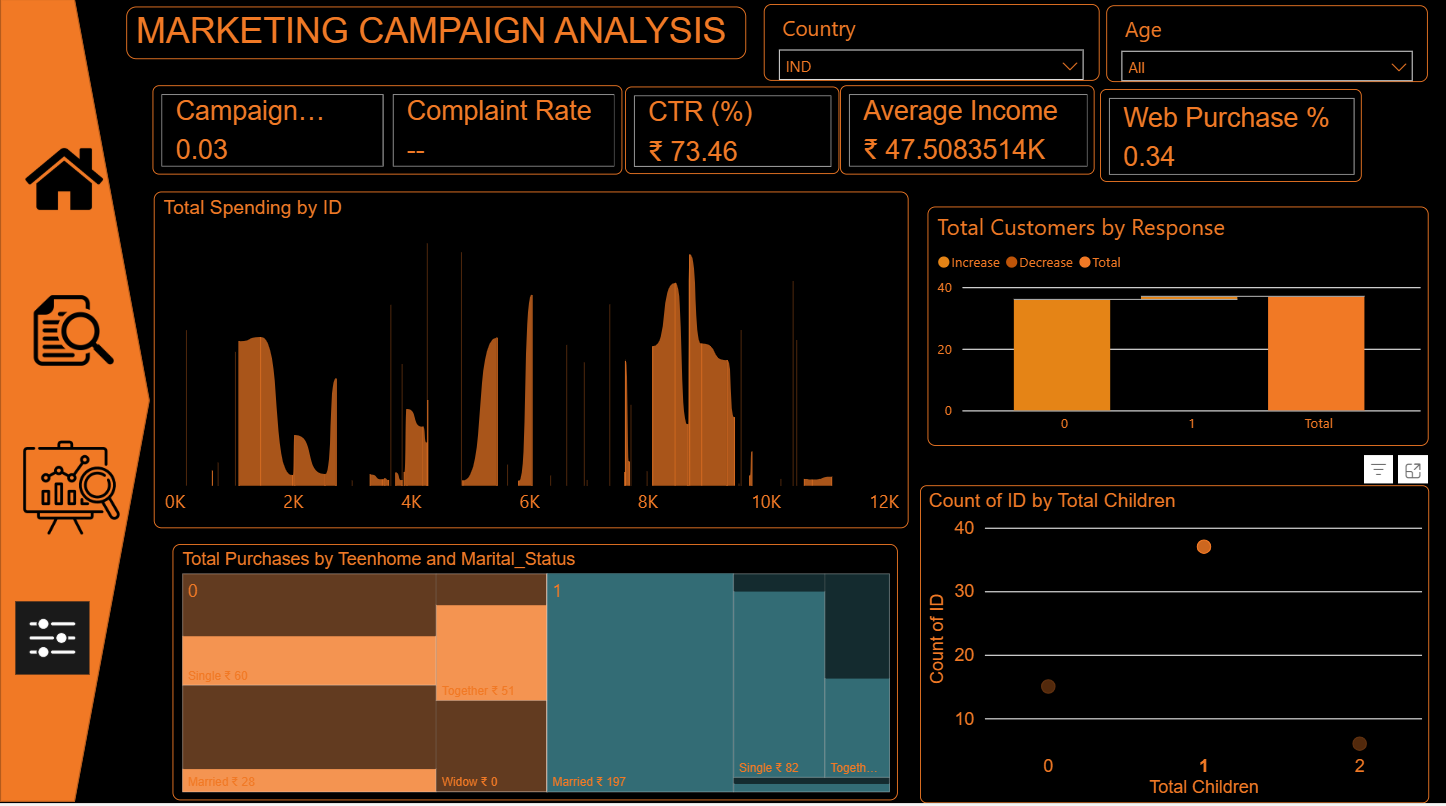

The dashboard page shown, as its layout file describes it:
{"tool":"powerbi","page":{"name":"Page 2","canvas":[1280,720],"ordinal":1},"visuals":[{"type":"shape","box":[0,0,134.2,719],"z":0},{"type":"image","box":[18.3,78.4,79.6,165.3],"z":1},{"type":"image","box":[20.8,254.8,89.3,83.2],"z":2},{"type":"textbox","title":"MARKETING CAMPAIGN ANALYSIS","box":[113.4,6.3,555,47.1],"z":3},{"type":"image","box":[0,389.7,128.6,96.5],"z":4},{"type":"cardVisual","fields":{"Data":["marketing_data.Campaign Acceptance Rate","marketing_data.Complaint Rate"]},"box":[136.3,77.2,421,79.9],"z":5},{"type":"cardVisual","fields":{"Data":["marketing_data.CTR (%)"]},"box":[559.5,78.4,191.8,78.4],"z":6},{"type":"cardVisual","fields":{"Data":["marketing_data.Average Income"]},"box":[752.3,77.5,228,79.6],"z":7},{"type":"cardVisual","fields":{"Data":["marketing_data.Web Purchase %"]},"box":[984.7,80.8,234,83.2],"z":8},{"type":"slicer","fields":{"Values":["marketing_data.Country"]},"box":[684.3,4.3,300.4,68.8],"z":9},{"type":"slicer","fields":{"Values":["marketing_data.Age"]},"box":[990.5,6,288.3,69],"z":10},{"type":"scatterChart","fields":{"X":["marketing_data.Total Children"],"Y":["CountNonNull(marketing_data.ID)"]},"box":[824,435.5,456,284.7],"z":11},{"type":"ribbonChart","fields":{"Y":["marketing_data.Total Spending"],"Category":["marketing_data.ID"]},"box":[137.5,172.5,675.6,301.6],"z":12},{"type":"treemap","fields":{"Group":["marketing_data.Teenhome"],"Details":["marketing_data.Marital_Status"],"Values":["marketing_data.Total Purchases"]},"box":[154.4,488.6,649.5,229.2],"z":13},{"type":"waterfallChart","fields":{"Category":["marketing_data.Response"],"Y":["marketing_data.Total Customers"]},"box":[830.3,185.8,448.8,214.7],"z":14},{"type":"image","box":[8.7,507.7,76,127.9],"z":15}]}

Visuals, with their boxes in screenshot pixels (x1, y1, x2, y2), scaled from the page's 1280x720 canvas onto the 1446x806 screenshot:
shape: box=[0, 0, 152, 805]
image: box=[21, 88, 111, 273]
image: box=[23, 285, 124, 378]
"MARKETING CAMPAIGN ANALYSIS" textbox: box=[128, 7, 755, 60]
image: box=[0, 436, 145, 544]
cardVisual - marketing_data.Campaign Acceptance Rate x marketing_data.Complaint Rate: box=[154, 86, 630, 176]
cardVisual - marketing_data.CTR (%): box=[632, 88, 849, 176]
cardVisual - marketing_data.Average Income: box=[850, 87, 1107, 176]
cardVisual - marketing_data.Web Purchase %: box=[1112, 90, 1377, 184]
slicer - marketing_data.Country: box=[773, 5, 1112, 82]
slicer - marketing_data.Age: box=[1119, 7, 1445, 84]
scatterChart - marketing_data.Total Children x CountNonNull(marketing_data.ID): box=[931, 488, 1445, 805]
ribbonChart - marketing_data.Total Spending x marketing_data.ID: box=[155, 193, 919, 531]
treemap - marketing_data.Teenhome x marketing_data.Marital_Status: box=[174, 547, 908, 804]
waterfallChart - marketing_data.Response x marketing_data.Total Customers: box=[938, 208, 1445, 448]
image: box=[10, 568, 96, 712]
